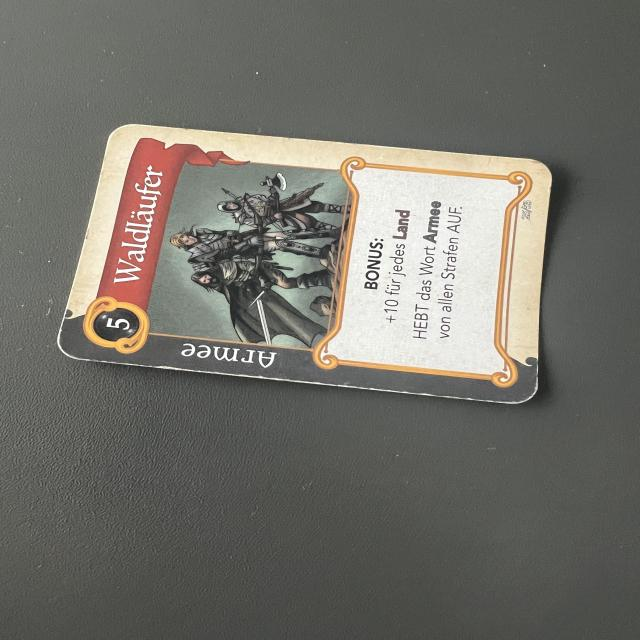test: (56, 123, 553, 404)
